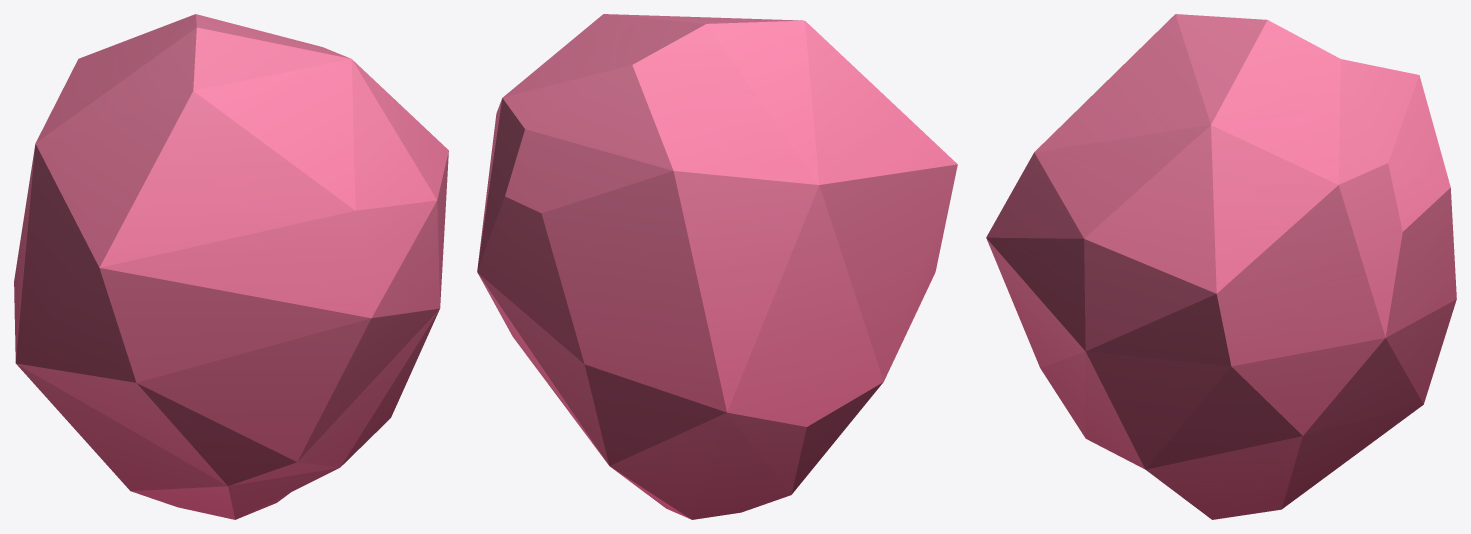
File: bush_ball_pink.fbx
3 views of the same model, side by side, from view 1: azimuth 30°, elevation 25°; view 2: azimuth 150°, elevation 25°; view 3: azimuth 270°, elevation 25° (orthographic). The views are drawn at different scales.
Visible parts, largest first — view 1: bush_ball_pink; view 2: bush_ball_pink; view 3: bush_ball_pink.
Boxes of the visible parts, box(x1,y1,x2,y2) form: bush_ball_pink: box(14, 14, 448, 519); bush_ball_pink: box(477, 14, 957, 519); bush_ball_pink: box(986, 14, 1456, 519).
Bounding box in the file's own units: 0.9 × 1 × 0.9.
1 material, 1 textured.
